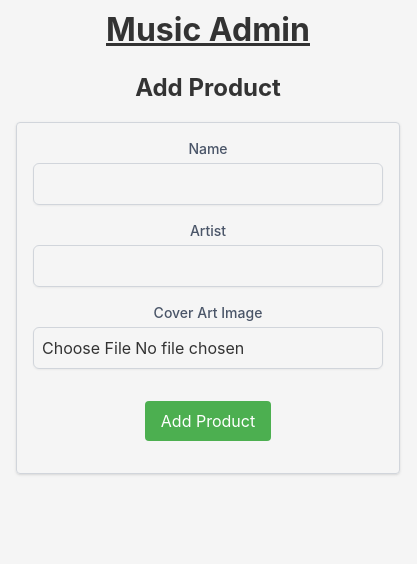
Test: AddProductPage › shows validation errors when fields are empty
The image size is (417, 564).
What coordinates should you click on to do the following:
click the button "Add Product"
I would click on:
 (208, 421)
Its box is [145,401,271,441].
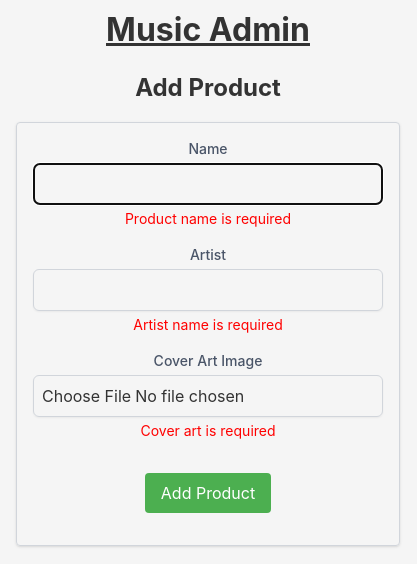
Now the text "Product name is required" is shown, box [125,210,291,227]
Now the text "Artist name is required" is shown, box [133,316,283,333]
Now the text "Cover art is required" is shown, box [140,422,276,439]
